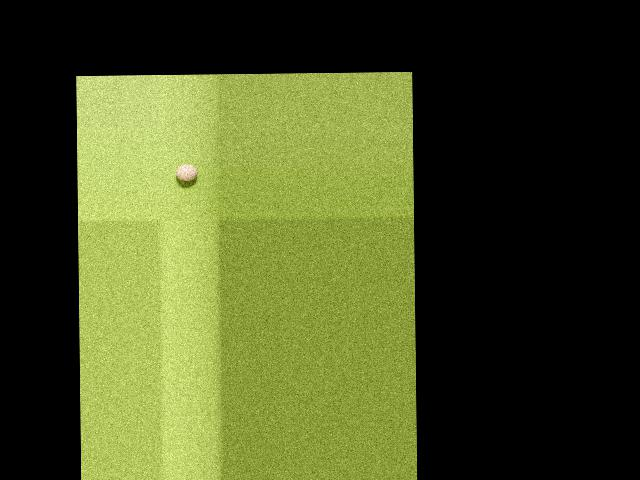egg: (176, 164, 198, 181)
